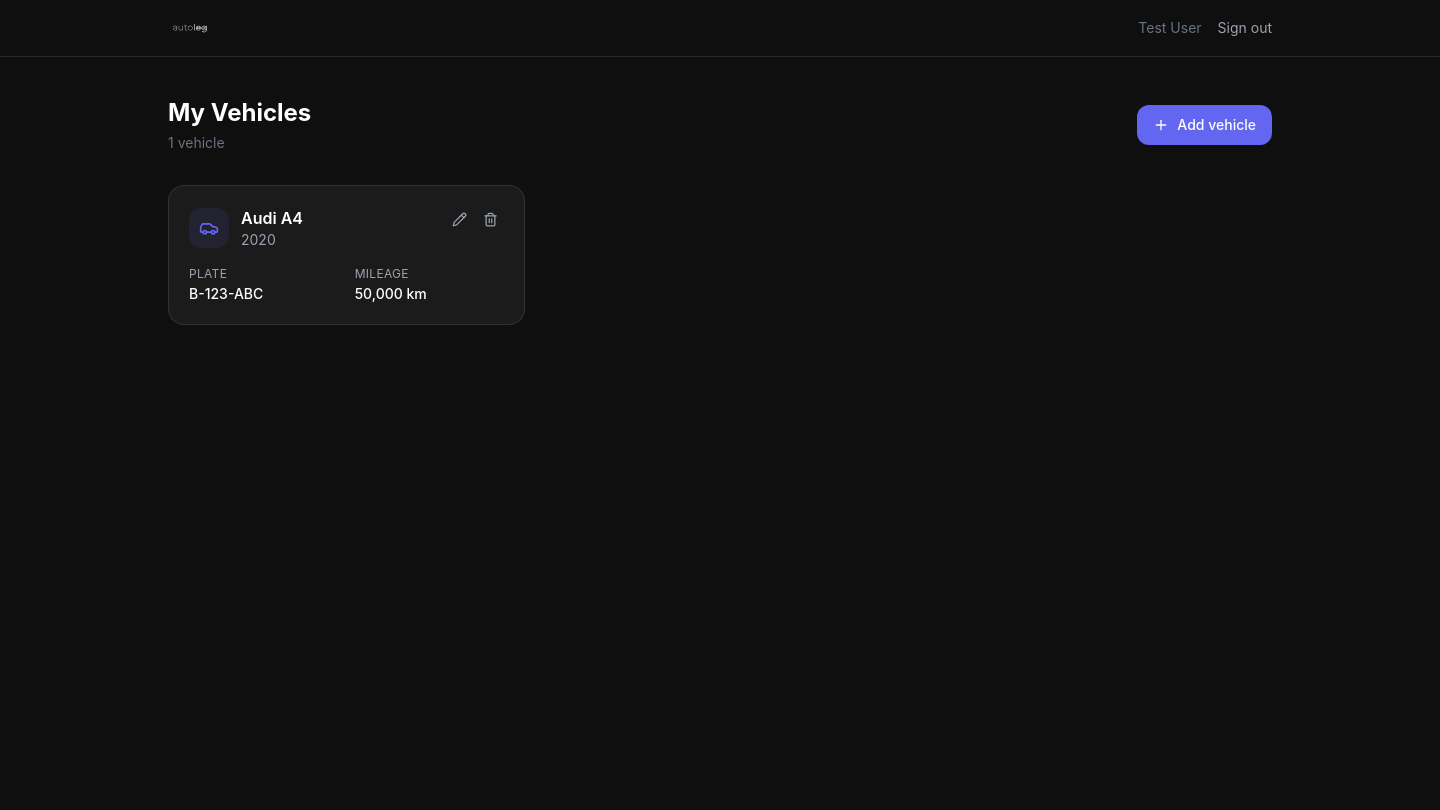
Test: VehiclesPage › opens edit modal when edit button is clicked
Click the button named "Edit vehicle" at (460, 220), box [446, 206, 473, 233]
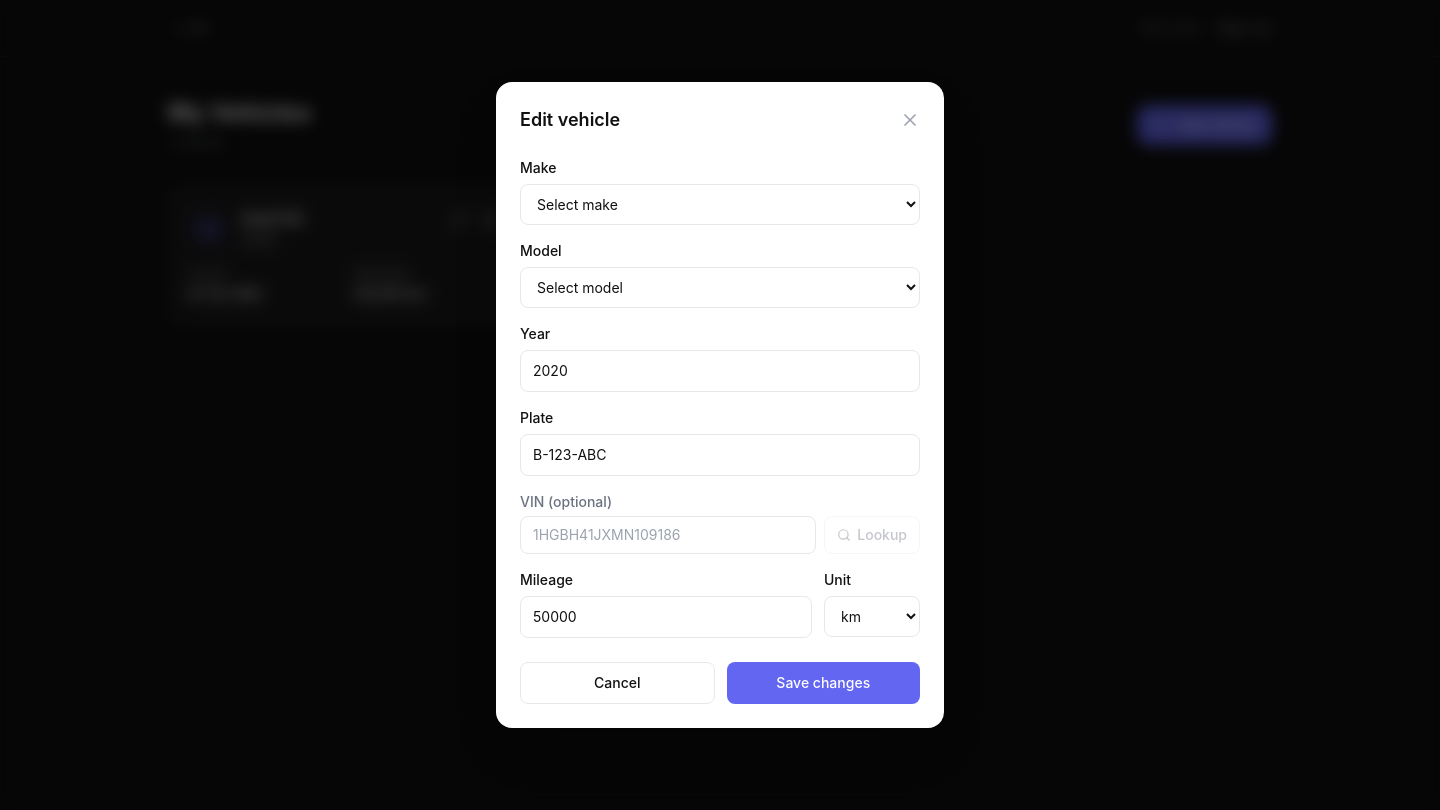
Now the heading "Edit vehicle" is shown, box [520, 106, 620, 134]
